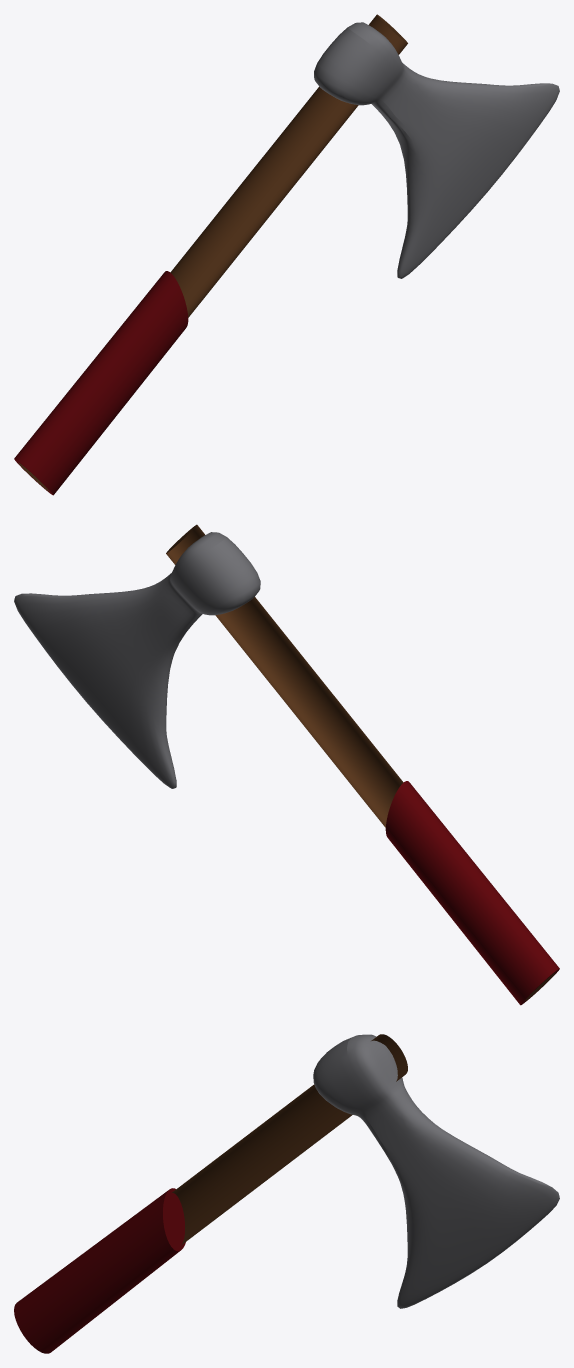
Rendered from axe.fbx.
3 views of the same model, one above another, from view 1: azimuth 30°, elevation 25°; view 2: azimuth 150°, elevation 25°; view 3: azimuth 330°, elevation 25° (orthographic).
Parts seen in each view (by area): view 1: Axe; view 2: Axe; view 3: Axe.
Boxes of the visible parts, x1=… form: Axe: x1=14, y1=14, x2=559, y2=495; Axe: x1=14, y1=524, x2=559, y2=1005; Axe: x1=14, y1=1034, x2=559, y2=1353.
Bounding box in the file's own units: 645 × 452 × 63.08.
